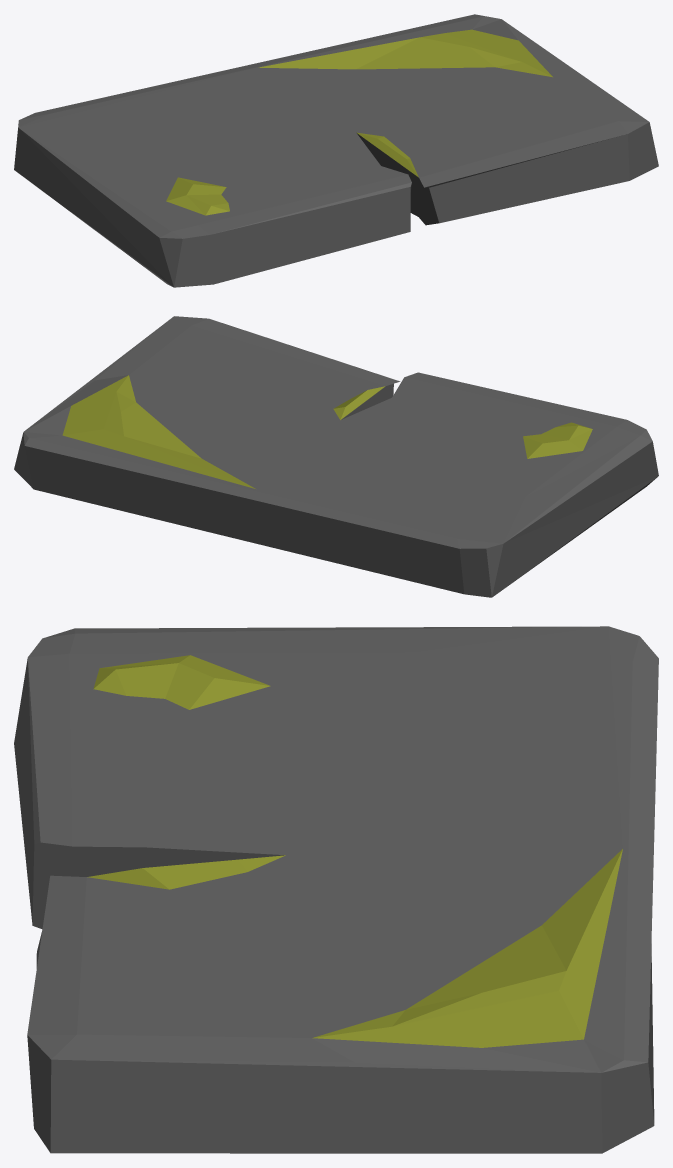
The model's file is tile_moss_type_2_LOD2.fbx.
3 views of the same model, one above another, from view 1: azimuth 30°, elevation 25°; view 2: azimuth 150°, elevation 25°; view 3: azimuth 270°, elevation 25° (orthographic). The views are drawn at different scales.
Parts seen in each view (by area): view 1: tile_moss_type_2; view 2: tile_moss_type_2; view 3: tile_moss_type_2.
Boxes of the visible parts, x1=… form: tile_moss_type_2: x1=14, y1=14, x2=658, y2=287; tile_moss_type_2: x1=14, y1=316, x2=658, y2=597; tile_moss_type_2: x1=14, y1=626, x2=658, y2=1153.
Bounding box in the file's own units: 200 × 22.18 × 123.
